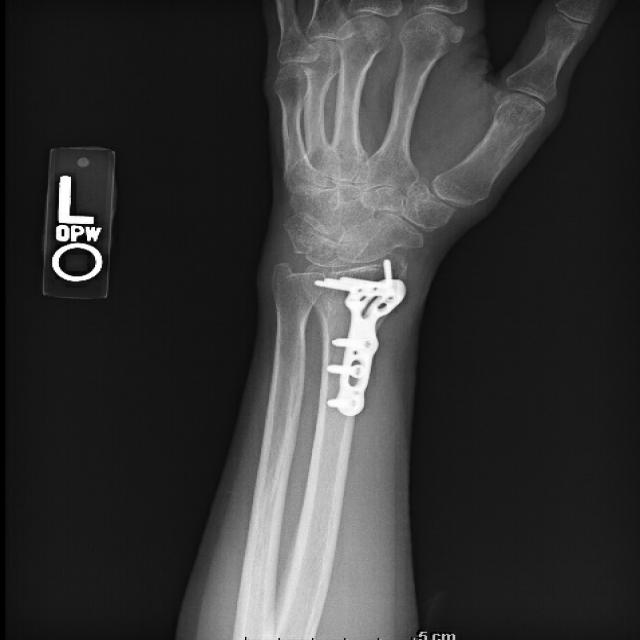x-ray: (310, 254, 428, 429)
